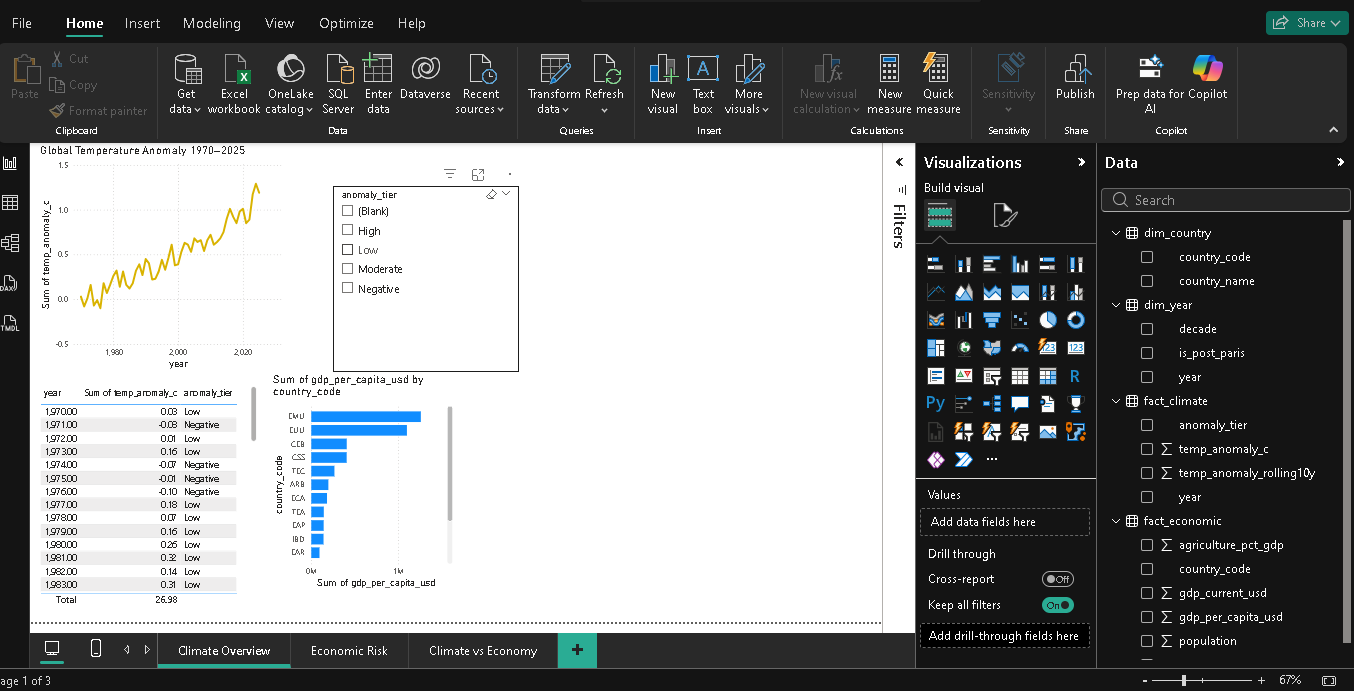

The page's visual inventory and layout, read from the dashboard file:
{"tool":"powerbi","page":{"name":"Climate Overview","canvas":[1280,720],"ordinal":0},"visuals":[{"type":"lineChart","title":"Global Temperature Anomaly 1970–2025","fields":{"Category":["fact_climate.year"],"Y":["Sum(fact_climate.temp_anomaly_c)"]},"box":[10.5,0,377.1,344],"z":0},{"type":"tableEx","fields":{"Values":["fact_climate.year","Sum(fact_climate.temp_anomaly_c)","fact_climate.anomaly_tier"]},"box":[10.5,360.6,335,339.5],"z":1000},{"type":"clusteredBarChart","fields":{"Category":["fact_economic.country_code"],"Y":["Sum(fact_economic.gdp_per_capita_usd)"]},"box":[360.6,344,279.4,329],"z":2000},{"type":"slicer","fields":{"Values":["fact_climate.anomaly_tier"]},"box":[455.2,64.6,279.4,279.4],"z":3000}]}

Visuals, with their boxes on the page's 1280x720 design canvas (x1, y1, x2, y2). These are canvas units, not pixel positions in the 1354x691 screenshot, which may show the page scaled, cropped or inside an application window:
"Global Temperature Anomaly 1970–2025" lineChart: x1=10 y1=0 x2=388 y2=344
tableEx - fact_climate.year x Sum(fact_climate.temp_anomaly_c): x1=10 y1=361 x2=346 y2=700
clusteredBarChart - fact_economic.country_code x Sum(fact_economic.gdp_per_capita_usd): x1=361 y1=344 x2=640 y2=673
slicer - fact_climate.anomaly_tier: x1=455 y1=65 x2=735 y2=344
